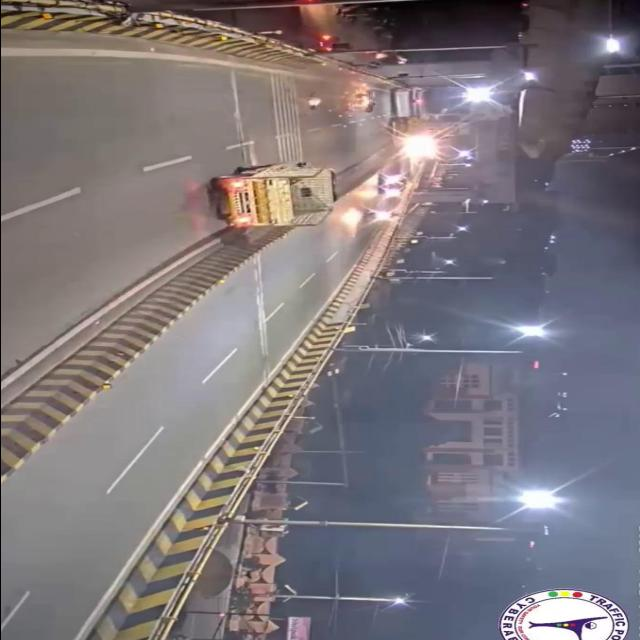accident: (333, 75, 380, 121)
